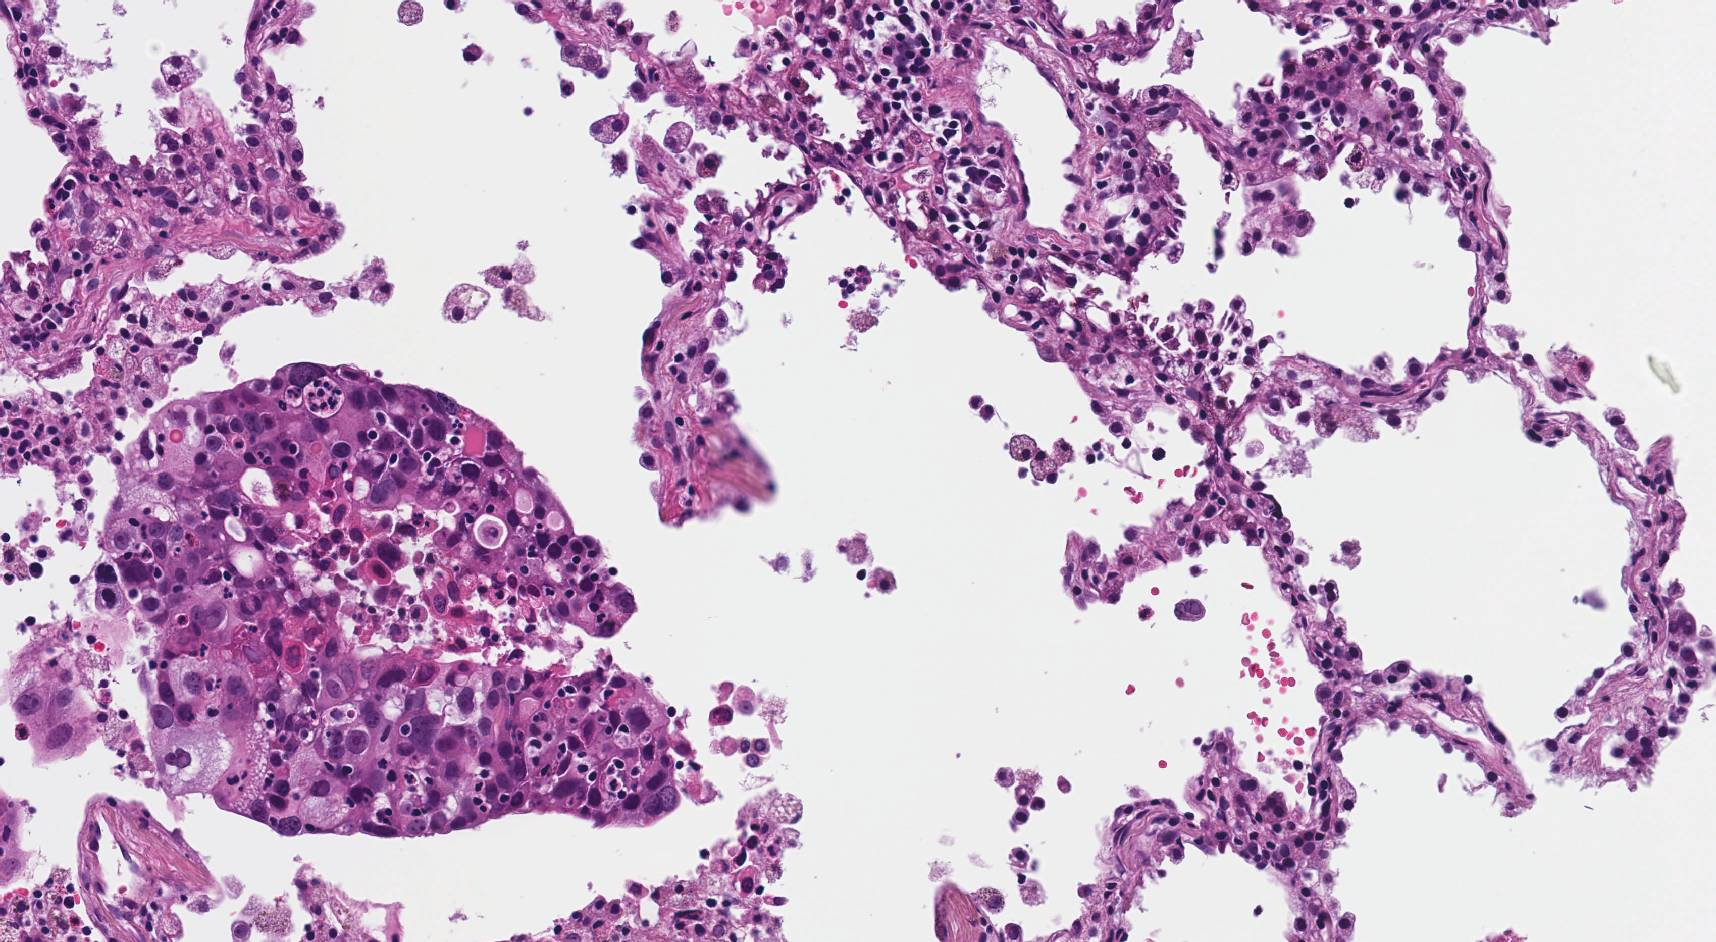stas: (11, 362, 694, 840)
